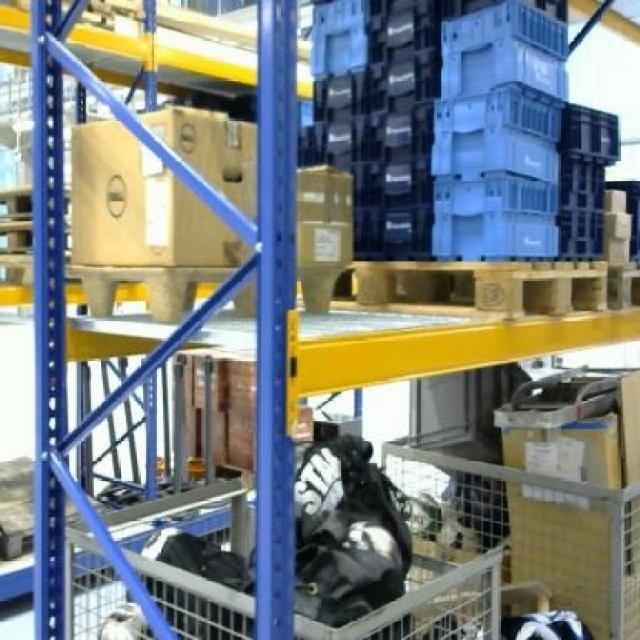box: (72, 107, 257, 267), (504, 427, 616, 615), (296, 166, 353, 265)
